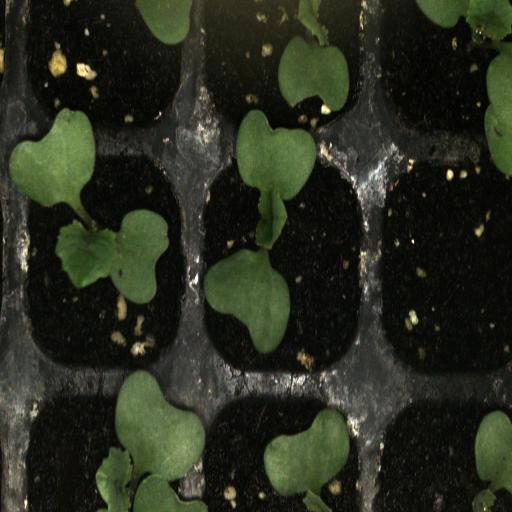Folha: (416, 0, 512, 177), (55, 209, 169, 304), (6, 107, 96, 214), (263, 407, 350, 512), (278, 0, 352, 112), (135, 0, 240, 74)
Germinacao: (12, 148, 192, 392), (192, 146, 368, 386)
